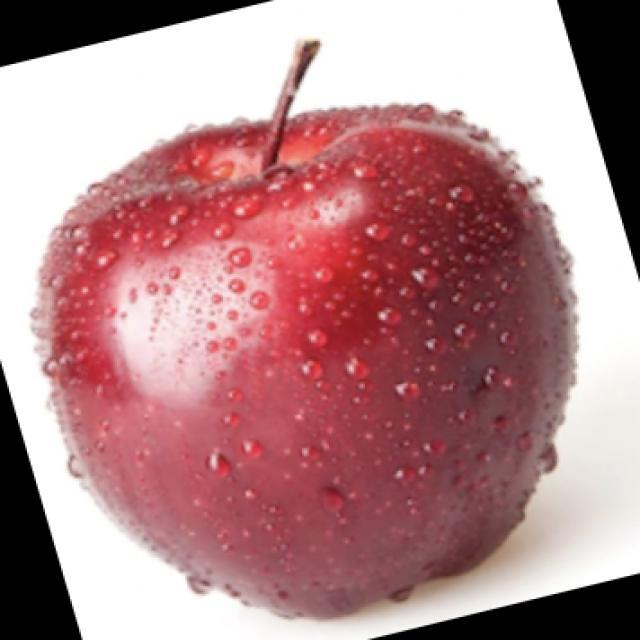Fresh Apple: (50, 103, 585, 600)
